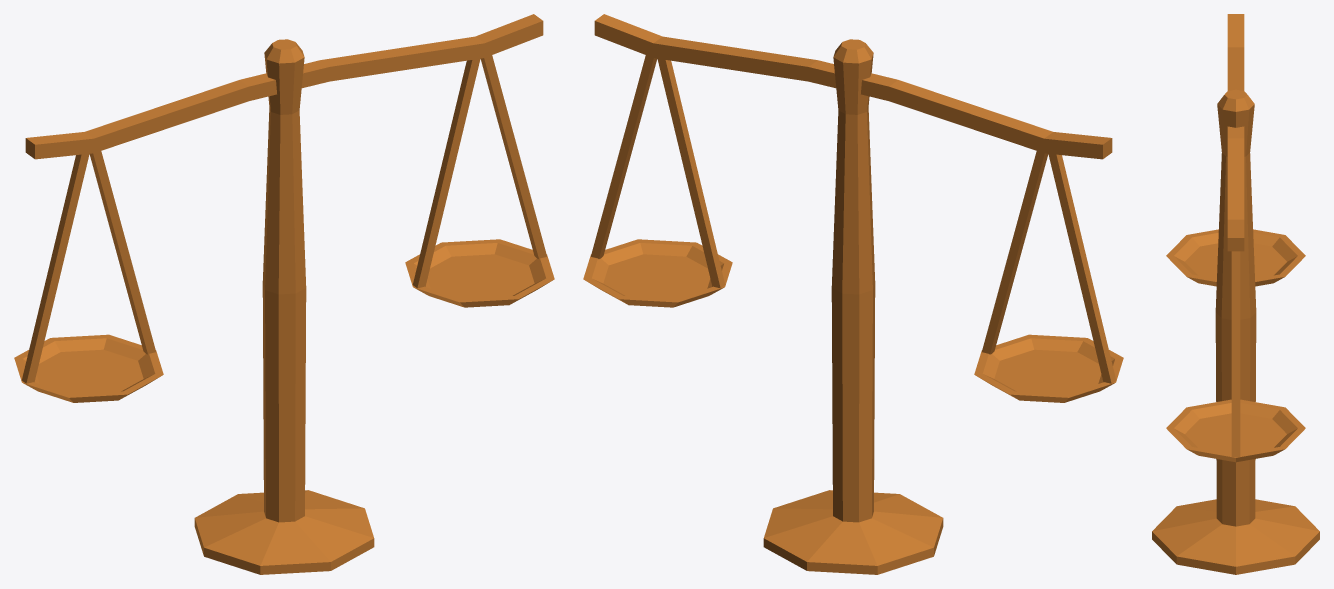
The model's file is Scale.fbx.
3 renders of one model, left to right at view 1: azimuth 30°, elevation 25°; view 2: azimuth 150°, elevation 25°; view 3: azimuth 270°, elevation 25°, orthographic. The views are drawn at different scales.
Visible parts, largest first — view 1: Scale; view 2: Scale; view 3: Scale.
Part boxes in pixels (bbox=[...]): Scale: bbox=[14, 14, 554, 574]; Scale: bbox=[583, 14, 1123, 574]; Scale: bbox=[1152, 14, 1319, 574].
Size of the model in its own units: 32.63 by 29.24 by 10.
